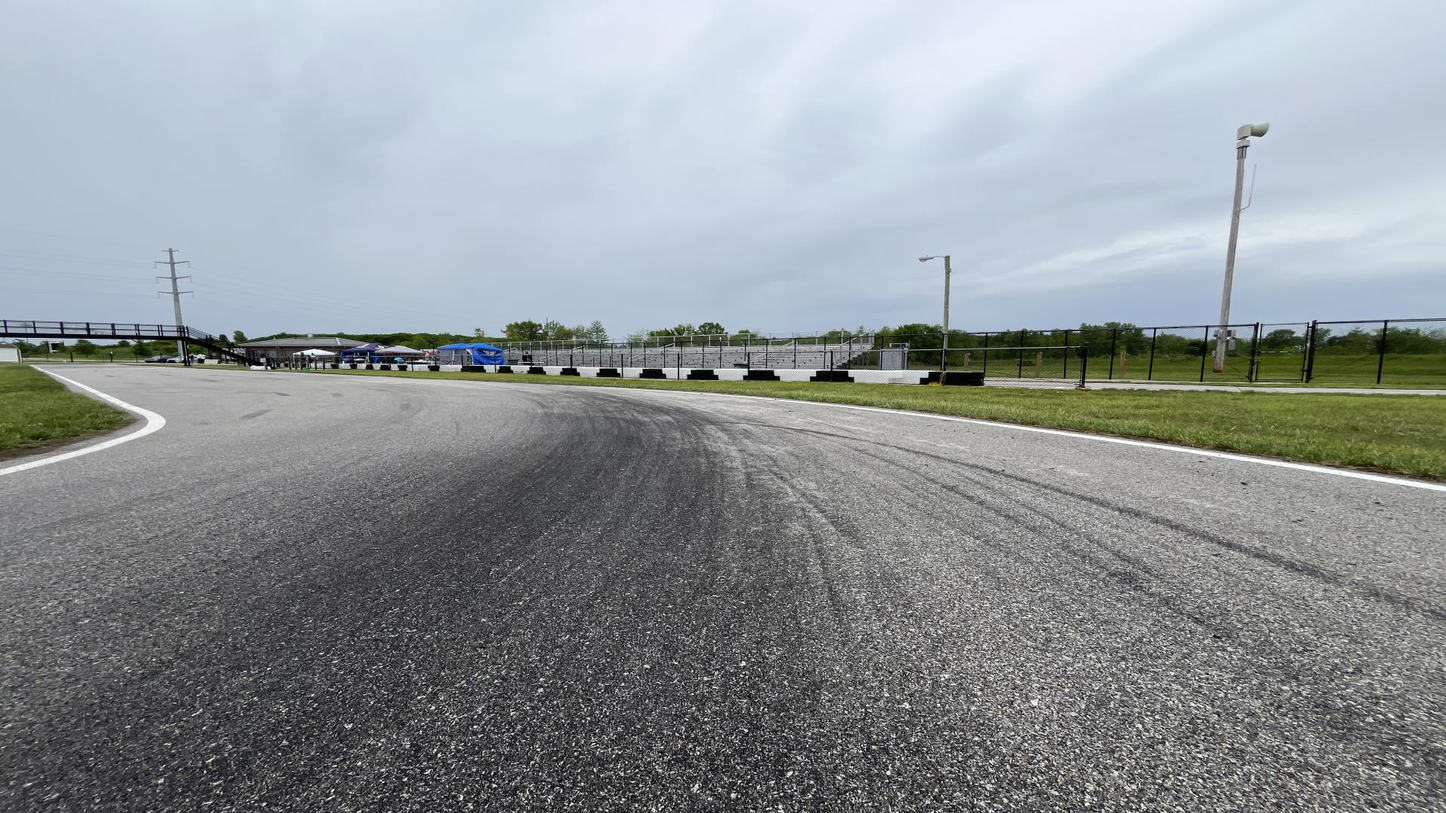white-line: (574, 386, 1445, 494), (0, 366, 166, 477)
